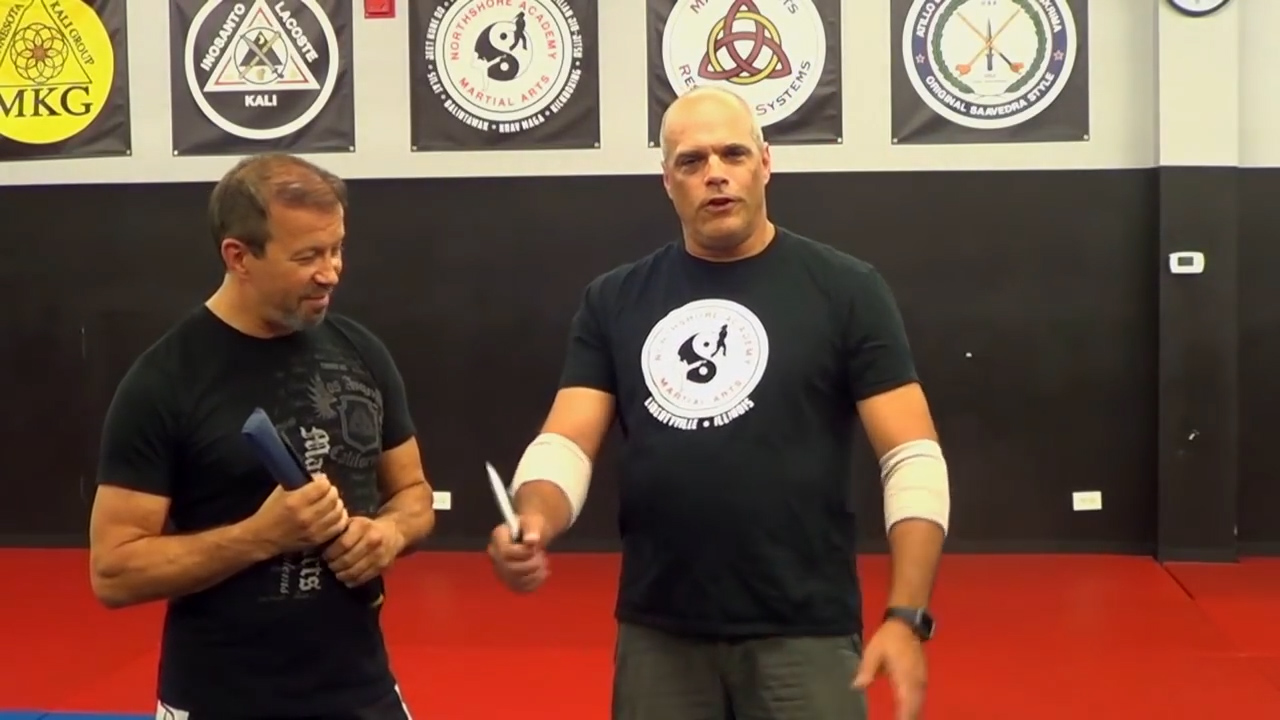knife: (476, 452, 557, 596)
